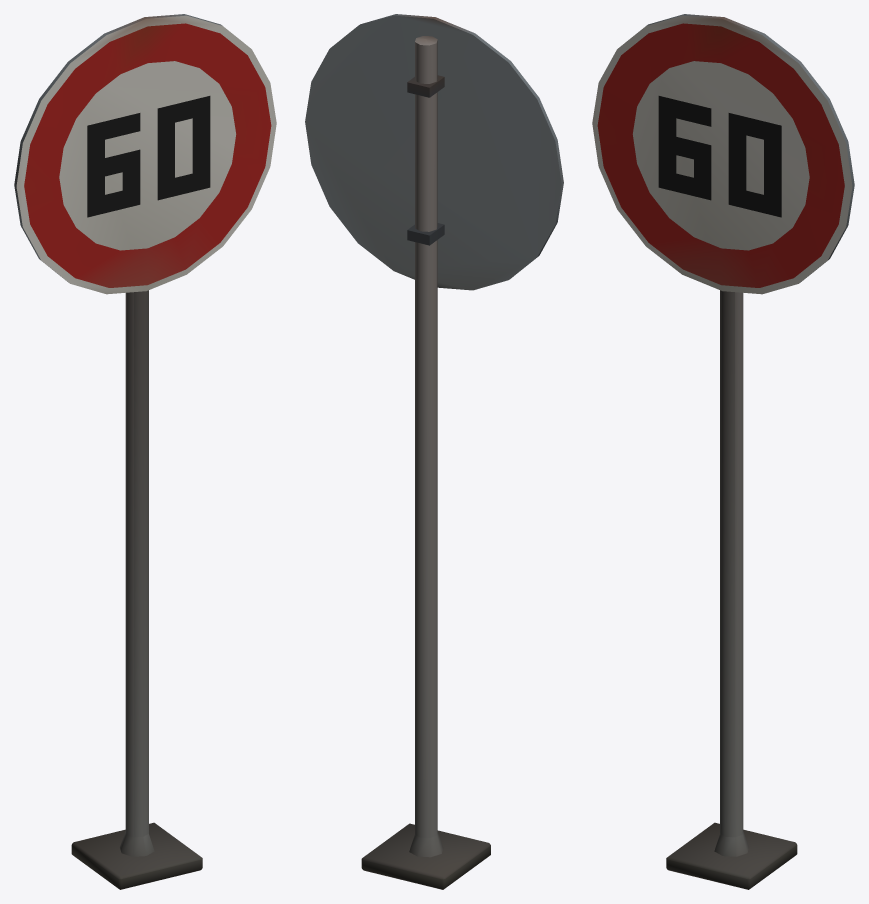
File: sign_speed.glb
3 renders of one model, left to right at view 1: azimuth 30°, elevation 25°; view 2: azimuth 150°, elevation 25°; view 3: azimuth 330°, elevation 25°, orthographic.
Parts seen in each view (by area): view 1: SignSpeed; view 2: SignSpeed; view 3: SignSpeed.
Boxes of the visible parts, box(x1,y1,x2,y2) form: SignSpeed: box(14, 14, 276, 889); SignSpeed: box(305, 14, 563, 889); SignSpeed: box(592, 14, 854, 889).
Size of the model in its own units: 0.8 by 2.5 by 0.26.
